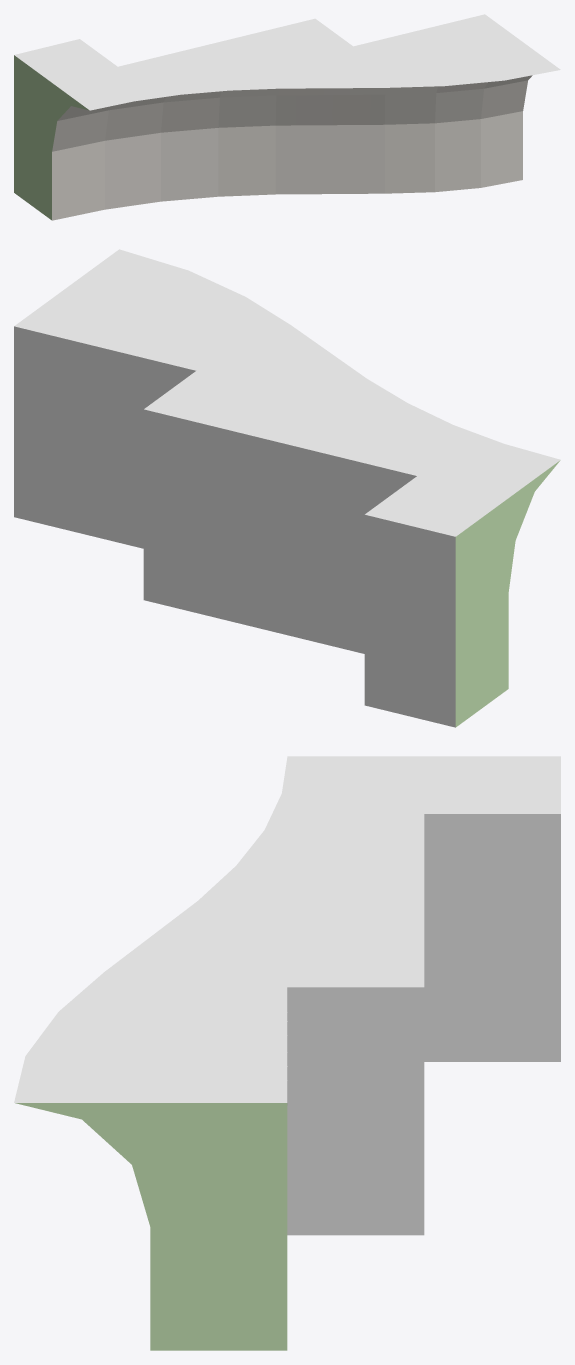
File: Wall_Esse_4x6_Top.fbx
3 views of the same model, one above another, from view 1: azimuth 30°, elevation 25°; view 2: azimuth 150°, elevation 25°; view 3: azimuth 270°, elevation 25° (orthographic). The views are drawn at different scales.
Visible parts, largest first — view 1: Wall_Esse_4x6_Top; view 2: Wall_Esse_4x6_Top; view 3: Wall_Esse_4x6_Top.
Part boxes in pixels (x1,y1,x2,y2): Wall_Esse_4x6_Top: (14,14,560,220); Wall_Esse_4x6_Top: (14,249,560,727); Wall_Esse_4x6_Top: (14,756,560,1350).
Bounding box in the file's own units: 600 × 200 × 400.
